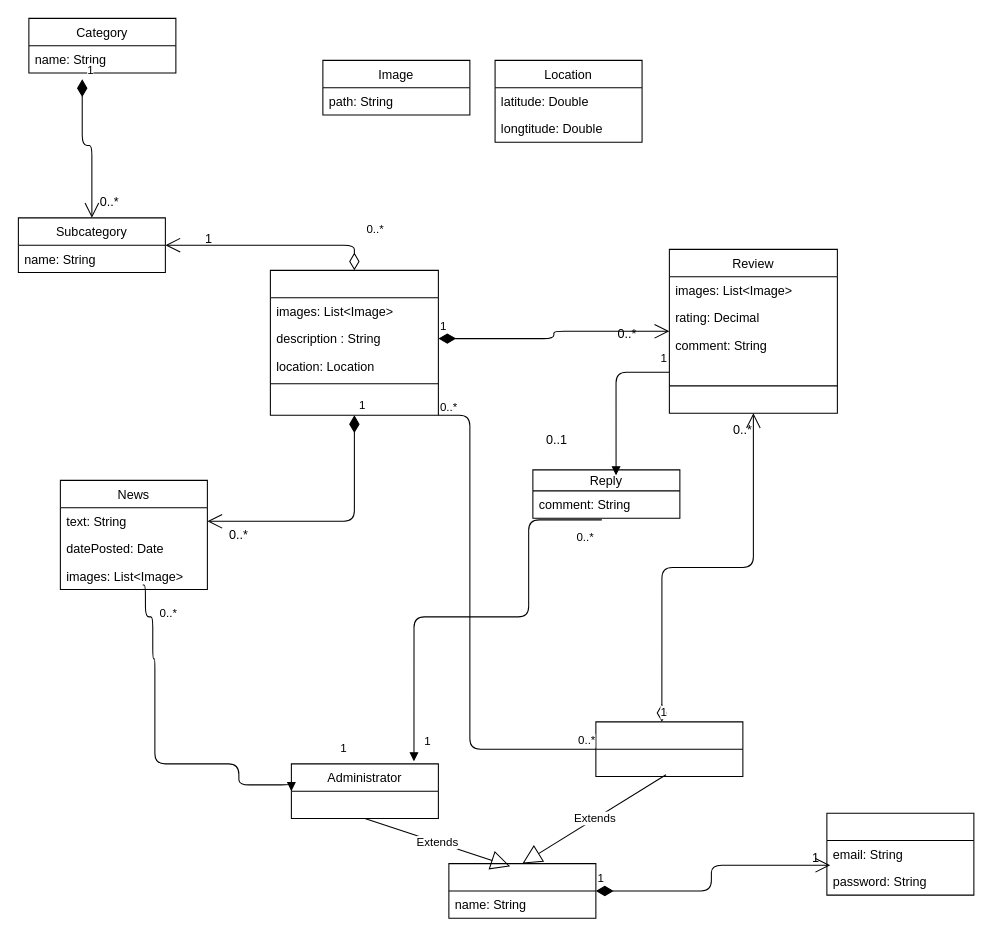
Some shapes in this 992 by 940 pixel diagram are drawn without their labels. Each missing label, with the box of its shape:
Account: (826, 812, 974, 895)
Cultural Offer: (269, 269, 438, 415)
Regular: (595, 721, 743, 776)
User: (448, 863, 596, 918)
